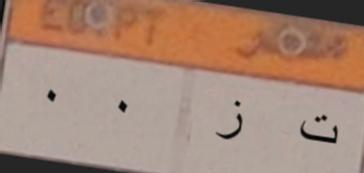0: (112, 92, 132, 128), (45, 85, 62, 108)
taa: (295, 103, 343, 157)
zay: (213, 93, 247, 145)
